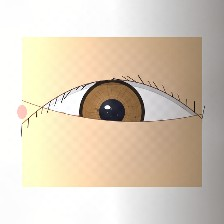hemorrhage_spot: (49, 92, 132, 158)
